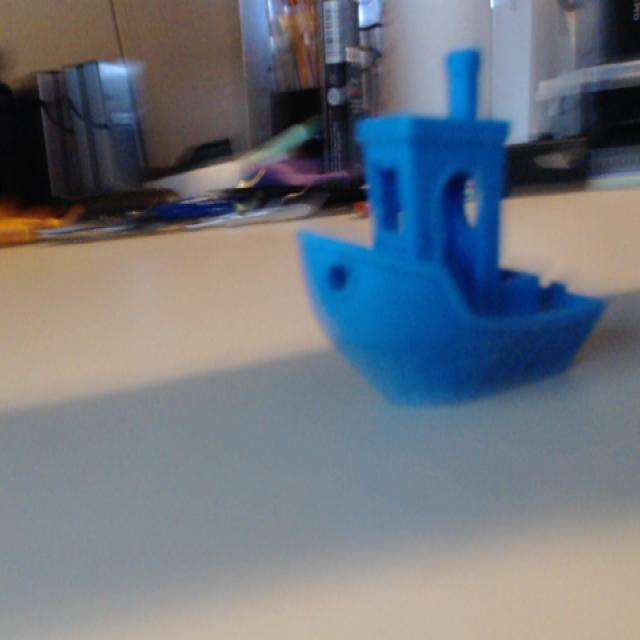benchy: (294, 44, 609, 411)
